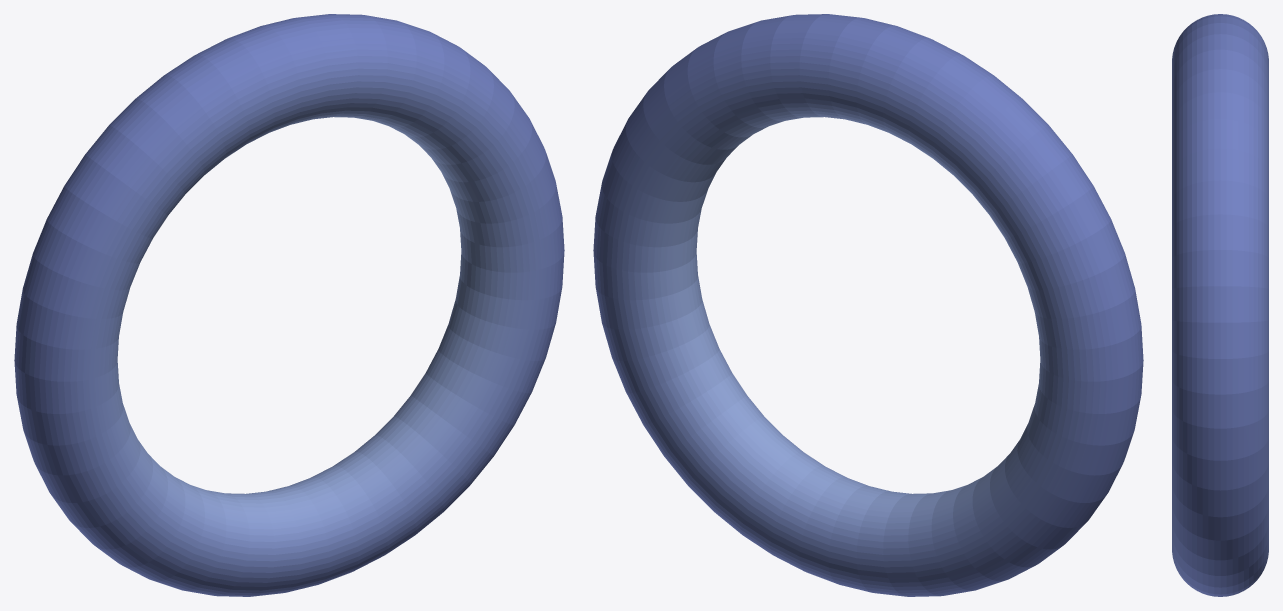
The picture shows the model from 3 angles, left to right: view 1: azimuth 30°, elevation 25°; view 2: azimuth 150°, elevation 25°; view 3: azimuth 270°, elevation 25°; orthographic projection. The views are drawn at different scales.
Parts seen in each view (by area): view 1: world; view 2: world; view 3: world.
Part boxes in pixels (<box>): world: <box>14,14,564,596</box>; world: <box>593,14,1143,596</box>; world: <box>1172,14,1268,596</box>.
Bounding box in the file's own units: 21.6 × 21.56 × 3.59.
